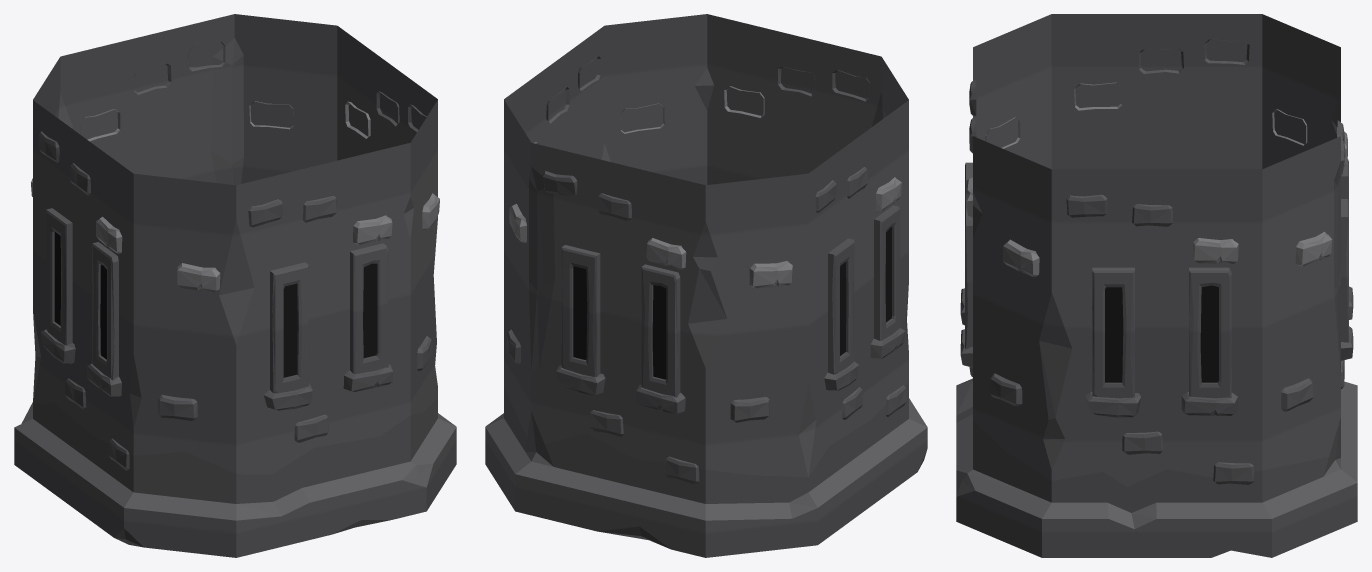
File: SM_Bld_Castle_Tower_04.gltf
3 renders of one model, left to right at view 1: azimuth 30°, elevation 25°; view 2: azimuth 150°, elevation 25°; view 3: azimuth 270°, elevation 25°, orthographic. The views are drawn at different scales.
Parts seen in each view (by area): view 1: SM_Bld_Castle_Tower_04; view 2: SM_Bld_Castle_Tower_04; view 3: SM_Bld_Castle_Tower_04.
Boxes of the visible parts, bbox=[...] form: SM_Bld_Castle_Tower_04: bbox=[14, 14, 456, 557]; SM_Bld_Castle_Tower_04: bbox=[485, 14, 927, 557]; SM_Bld_Castle_Tower_04: bbox=[956, 14, 1357, 557].
Bounding box in the file's own units: 2.84 × 3.02 × 2.84.
1 material, 1 textured.
